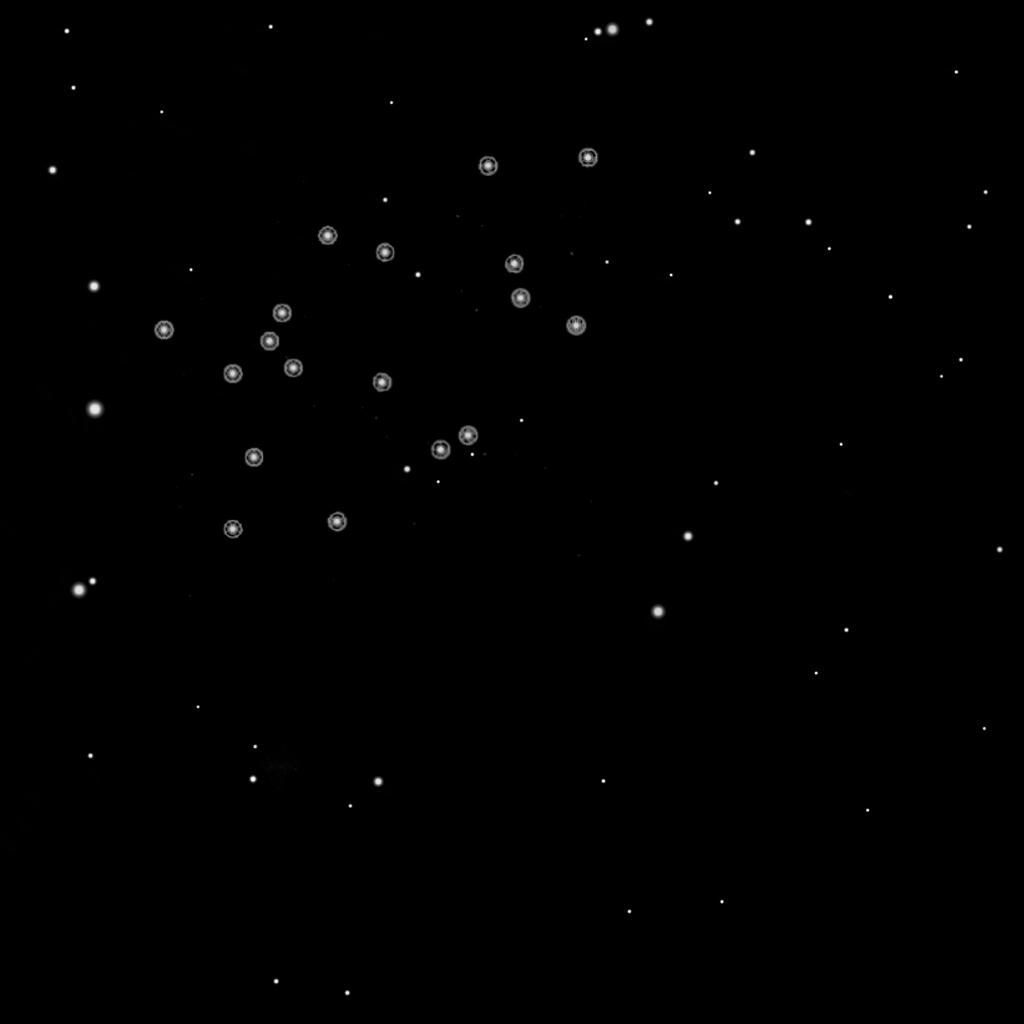canis_major: (214, 224, 399, 388)
